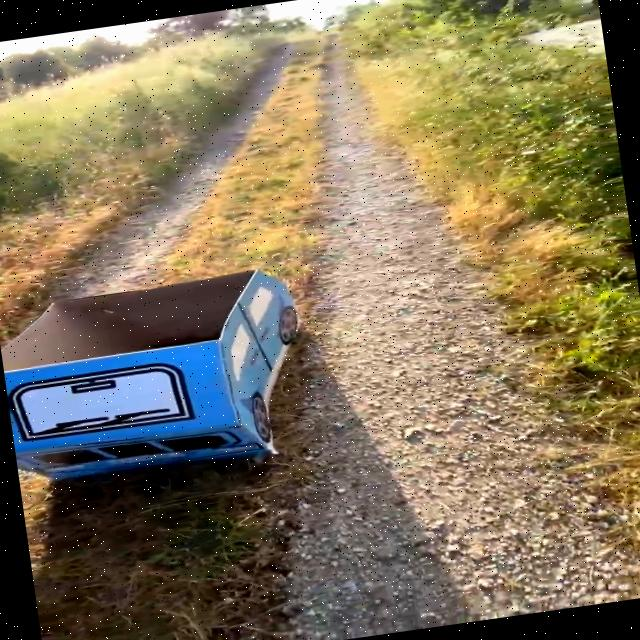blue_car: (0, 251, 385, 529)
